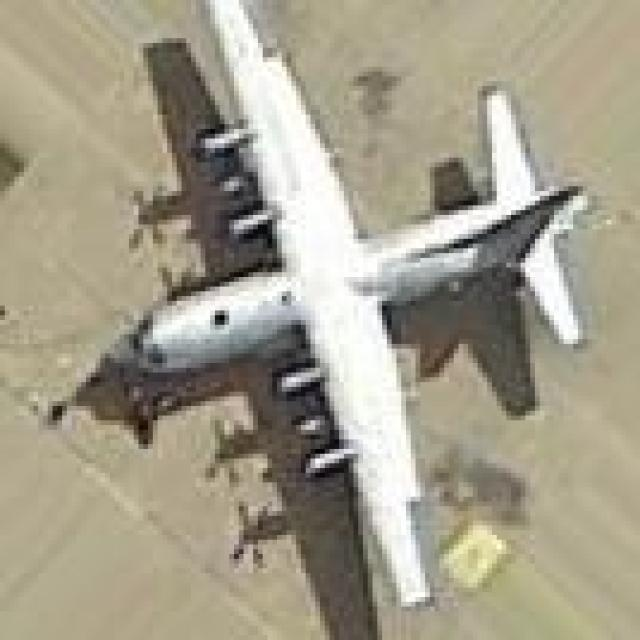C-130_TopDown: (47, 0, 603, 640)
